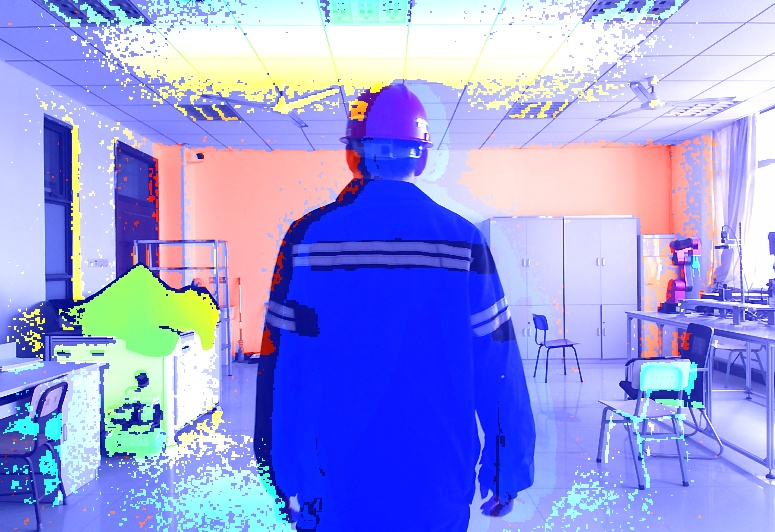person: (15, 6, 775, 532), (1, 1, 637, 438), (255, 80, 557, 532)
